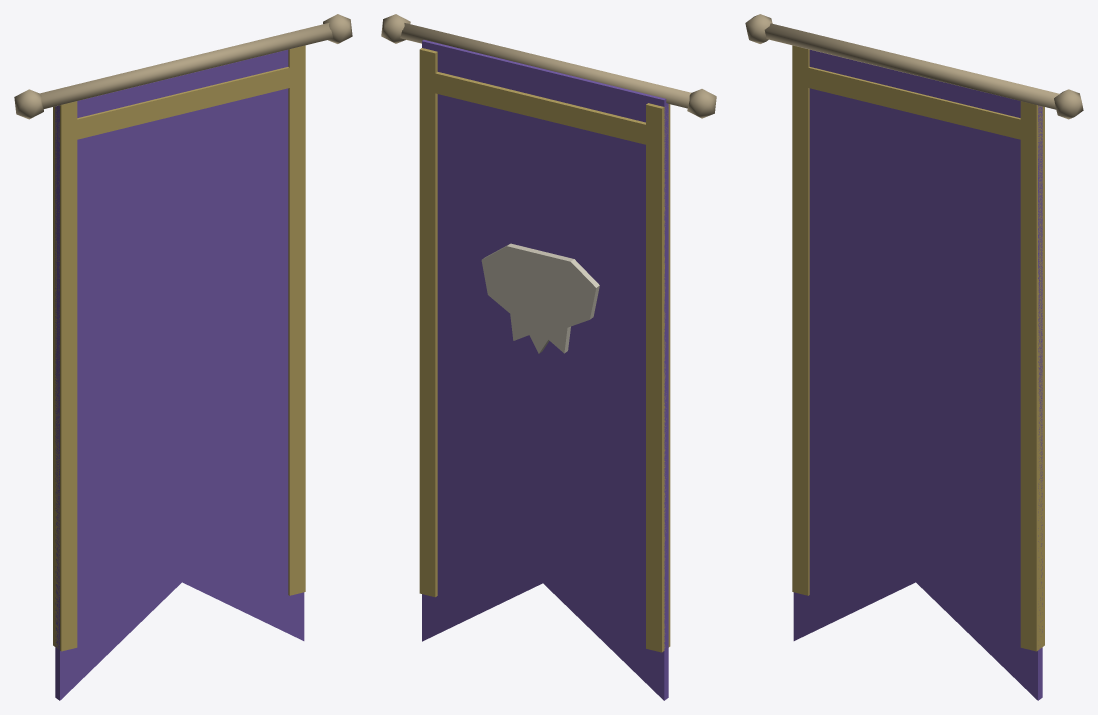
Rendered from tim_banner_v0.glb.
3 views of the same model, side by side, from view 1: azimuth 30°, elevation 25°; view 2: azimuth 150°, elevation 25°; view 3: azimuth 330°, elevation 25° (orthographic).
Visible parts, largest first — view 1: tim_banner_v0; view 2: tim_banner_v0; view 3: tim_banner_v0.
Part boxes in pixels (x1,y1,x2,y2): tim_banner_v0: (14,14,352,700); tim_banner_v0: (381,14,716,700); tim_banner_v0: (745,14,1083,700).
Bounding box in the file's own units: 1.04 × 1.84 × 0.0933.
